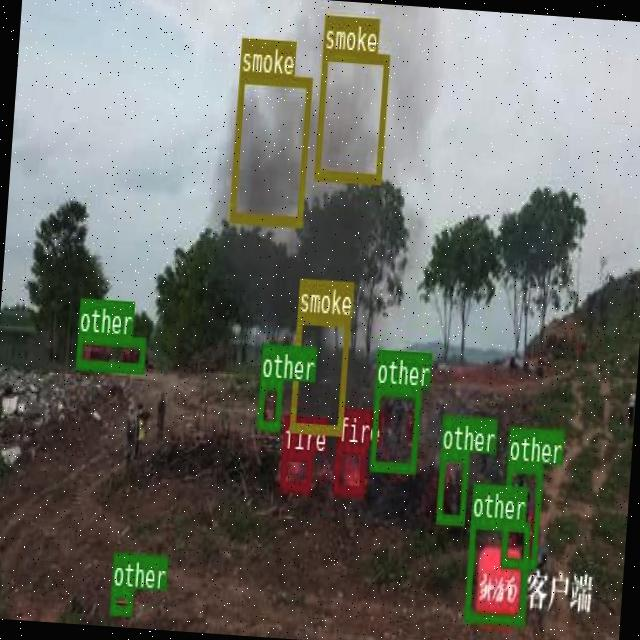fire: (332, 442, 366, 494), (278, 448, 311, 489)
smoke: (228, 71, 312, 224), (314, 49, 388, 181), (288, 312, 349, 433)
